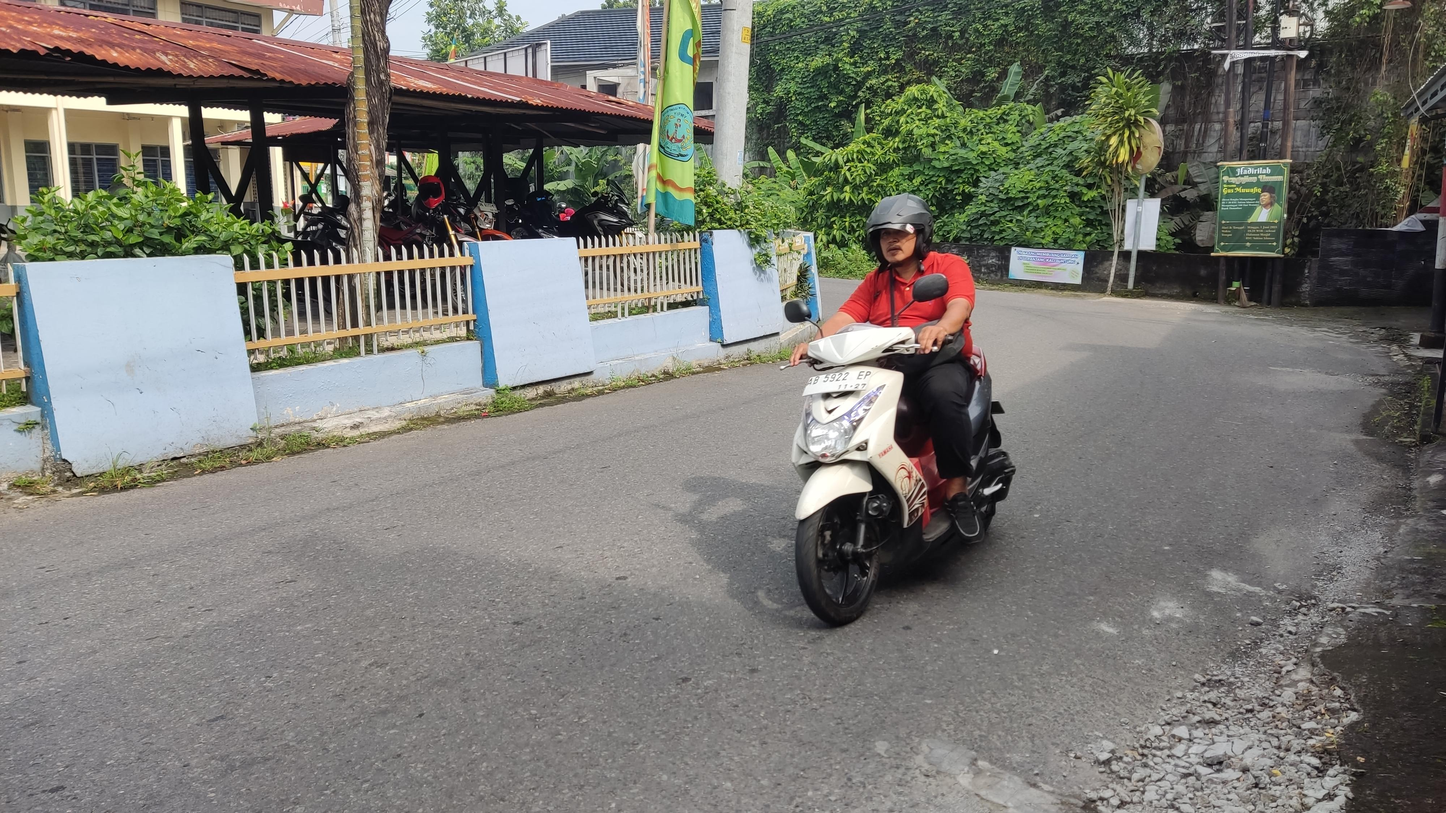helm: (865, 190, 945, 273)
riding: (776, 185, 1029, 636)
